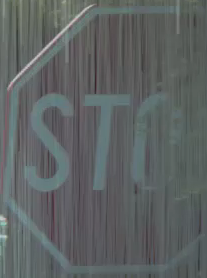Stop: (14, 10, 195, 242)
